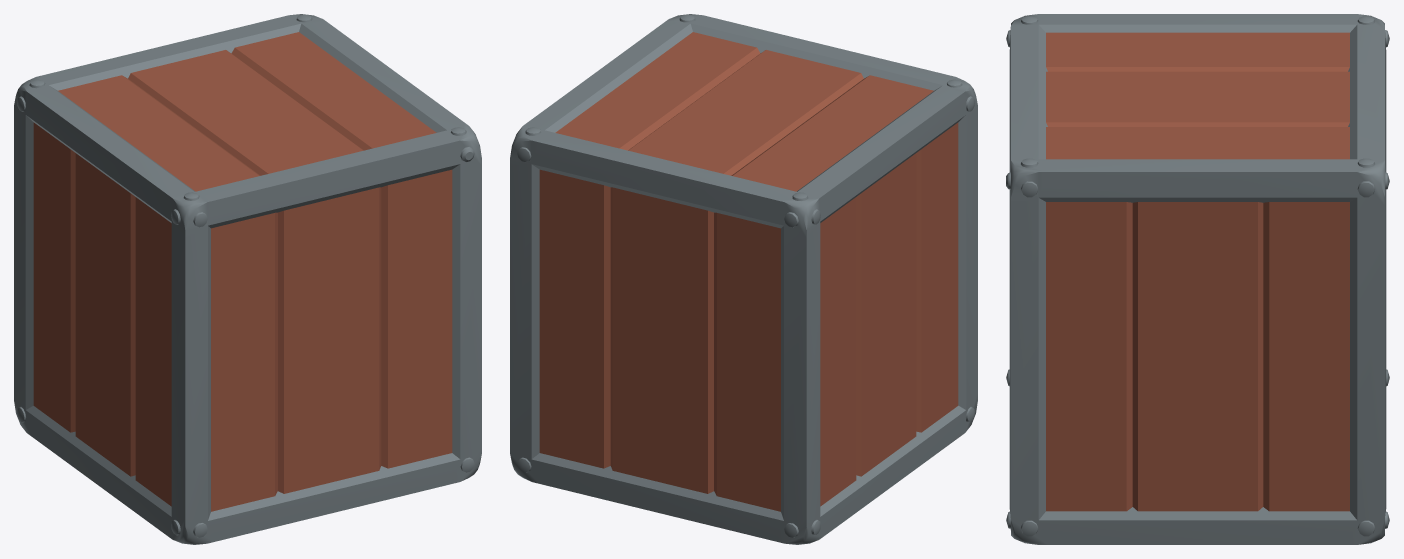
File: cratePlatform_large 1.fbx
The picture shows the model from 3 angles, left to right: view 1: azimuth 30°, elevation 25°; view 2: azimuth 150°, elevation 25°; view 3: azimuth 270°, elevation 25°; orthographic projection. The views are drawn at different scales.
Parts seen in each view (by area): view 1: cratePlatform_large; view 2: cratePlatform_large; view 3: cratePlatform_large.
Part boxes in pixels (x1,y1,x2,y2): cratePlatform_large: (14, 14, 481, 544); cratePlatform_large: (510, 14, 977, 544); cratePlatform_large: (1006, 14, 1389, 544).
Size of the model in its own units: 205 by 225 by 205.
